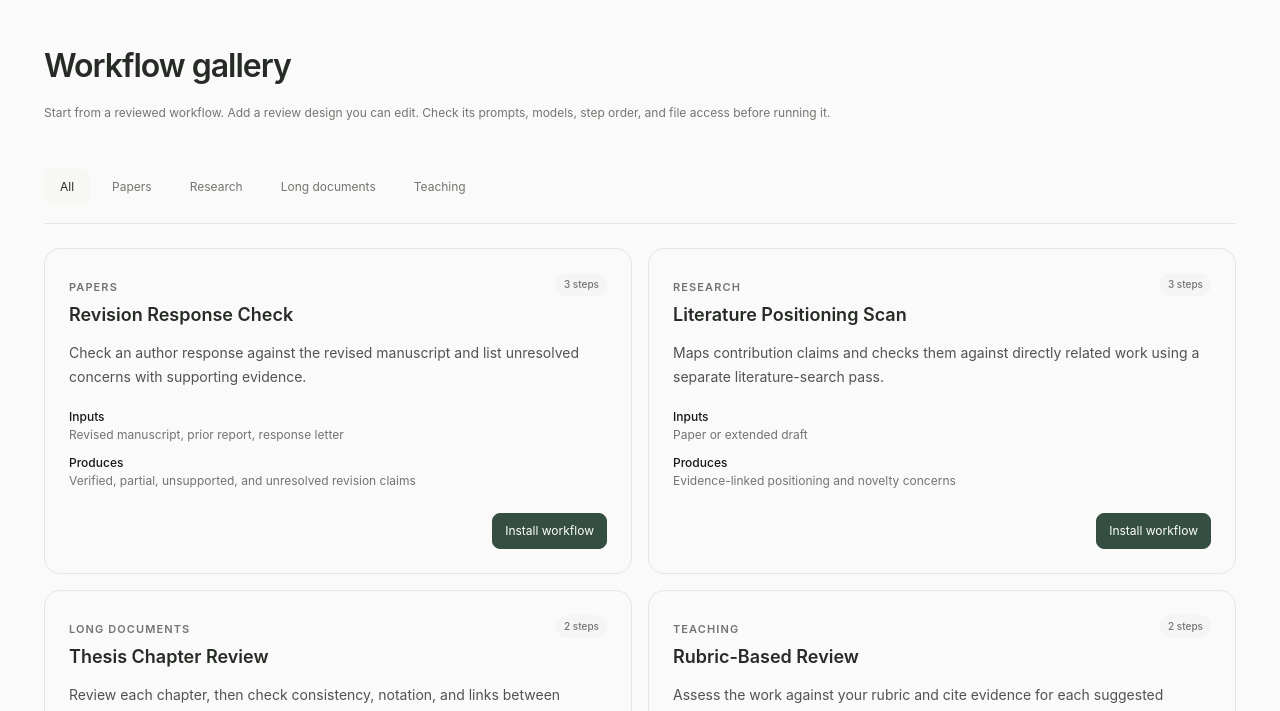
Test case: WorkflowGalleryPage › titles the page and filters by category
Expected: the heading "Workflow gallery" is shown, [44,46,291,85]
Click the button "Teaching" at {"x": 440, "y": 187}, box [398,169,482,205]
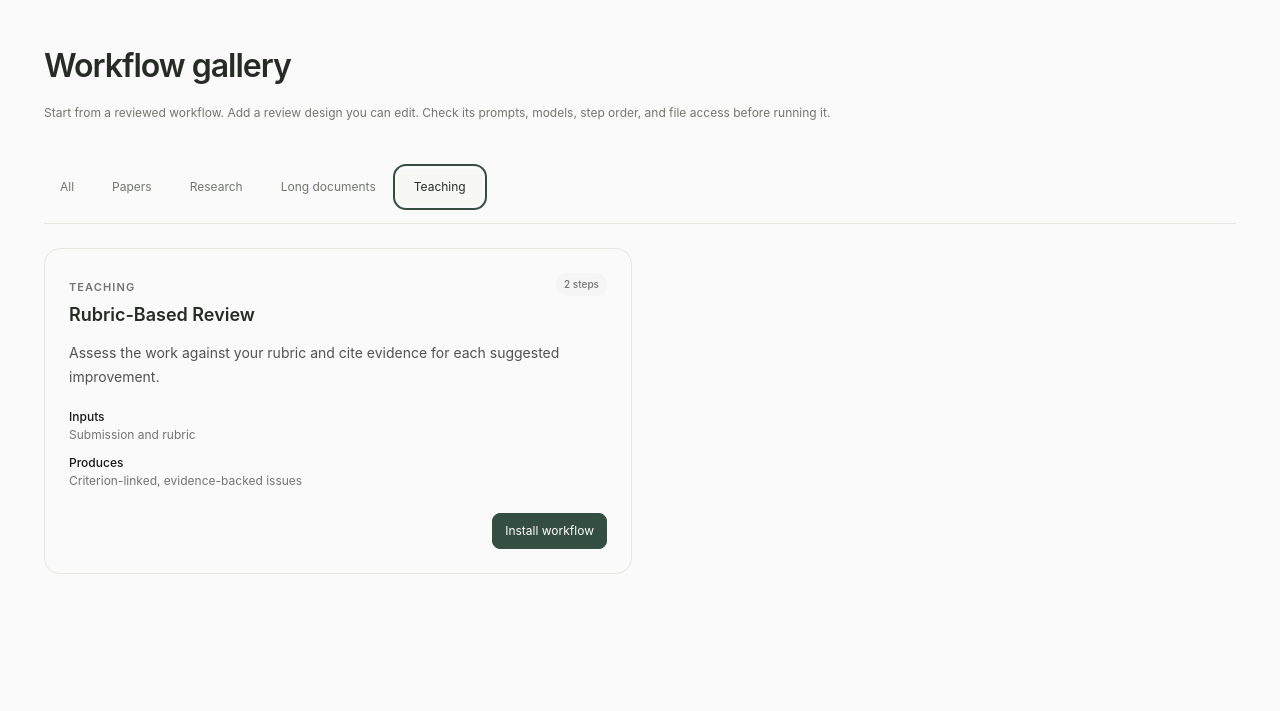
Result: the heading "Revision Response Check" is gone
